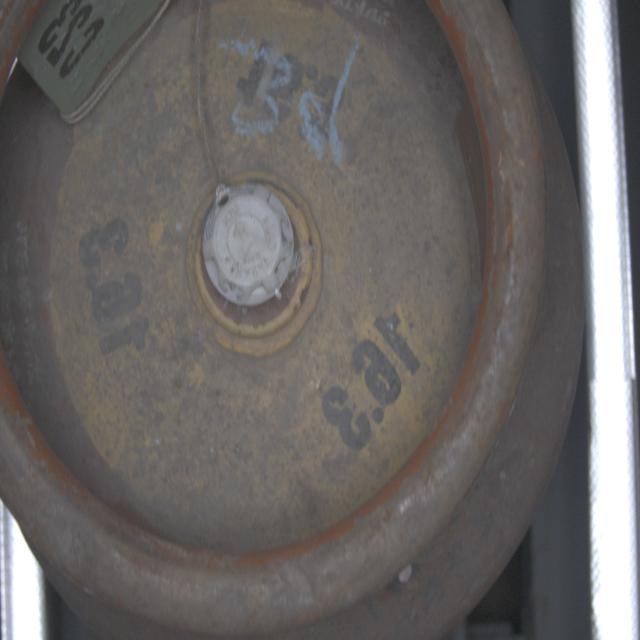Cap: (202, 179, 298, 312)
